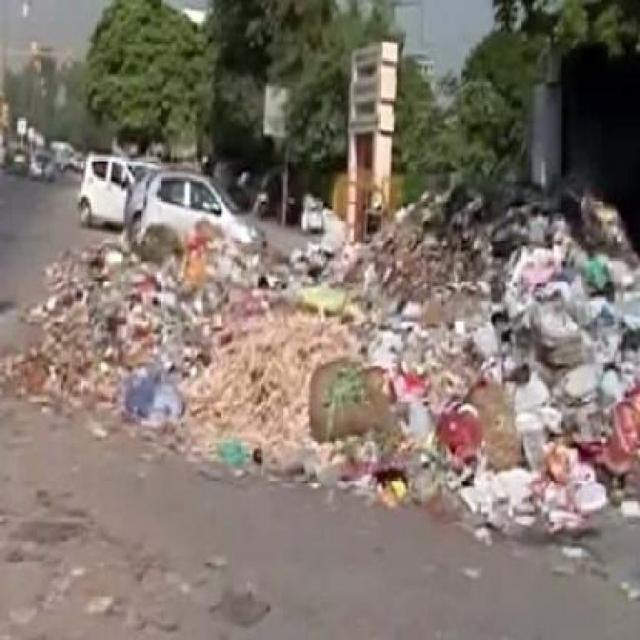garbage: (77, 245, 640, 464), (406, 188, 624, 539)
